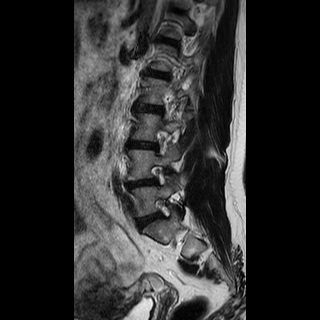LFS0: (149, 191, 178, 225), (144, 158, 169, 191)
